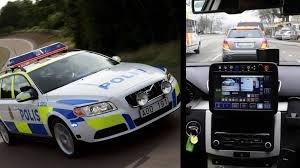license-plates: (141, 98, 169, 118)
